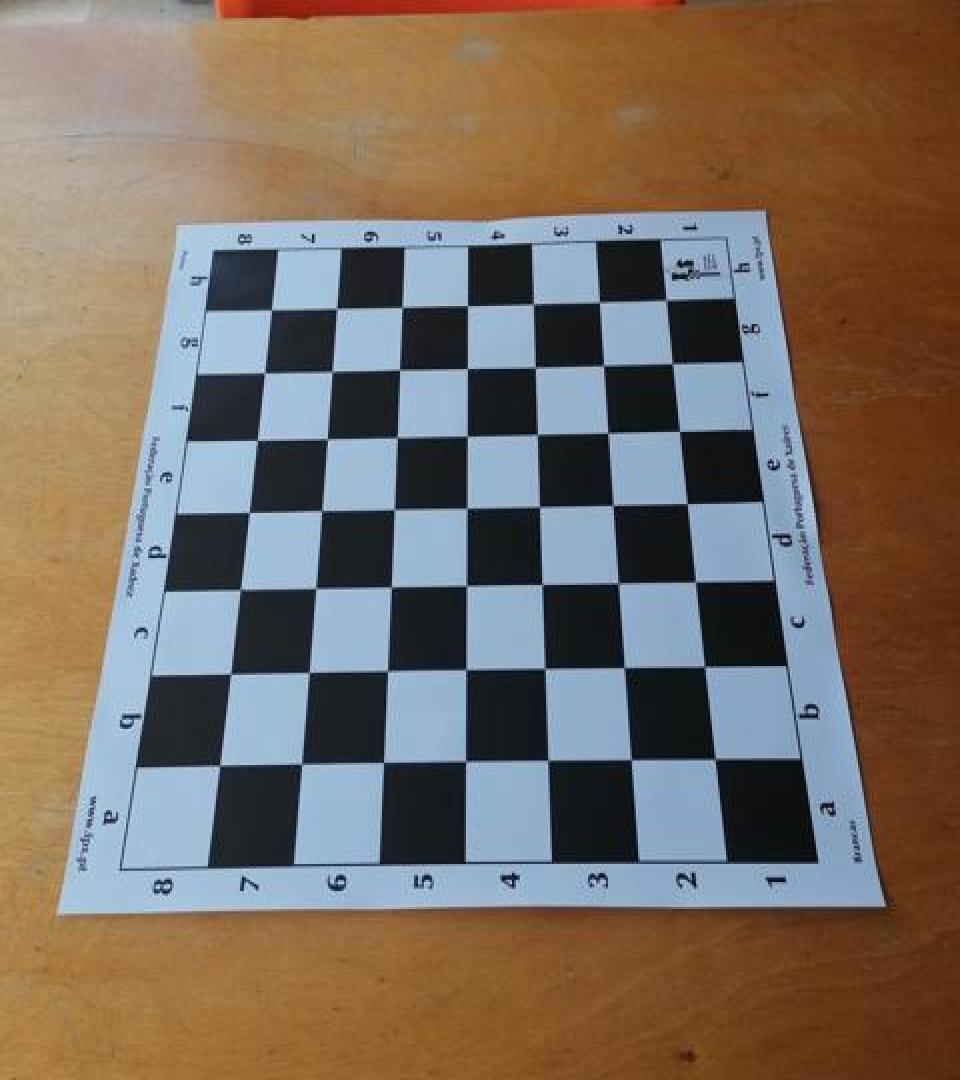xcorner: (205, 750, 233, 782), (287, 749, 315, 781), (370, 748, 398, 780), (453, 747, 481, 779), (216, 658, 244, 690), (295, 657, 323, 689), (613, 652, 641, 684), (693, 650, 721, 682), (302, 571, 330, 603), (378, 570, 406, 602), (454, 569, 482, 601), (530, 568, 558, 600), (607, 567, 635, 599), (454, 490, 482, 522), (528, 489, 556, 521), (601, 488, 629, 520), (675, 487, 703, 519), (384, 418, 412, 450), (455, 417, 483, 449), (525, 416, 553, 448), (596, 415, 624, 447), (667, 414, 695, 446), (251, 354, 279, 386), (319, 353, 347, 385), (387, 351, 415, 383), (660, 346, 688, 378), (259, 291, 287, 323), (324, 290, 352, 322), (390, 289, 418, 321), (455, 288, 483, 320), (653, 283, 681, 315), (536, 746, 564, 777), (620, 745, 648, 776), (703, 744, 731, 775), (374, 656, 402, 687), (454, 655, 482, 686), (533, 654, 561, 685), (226, 573, 254, 604), (684, 566, 712, 597), (235, 494, 263, 525), (308, 493, 336, 524), (381, 492, 409, 523), (243, 422, 271, 453), (314, 421, 342, 452), (455, 350, 483, 381), (523, 349, 551, 380), (591, 348, 619, 379), (521, 286, 549, 317), (587, 285, 615, 316)
